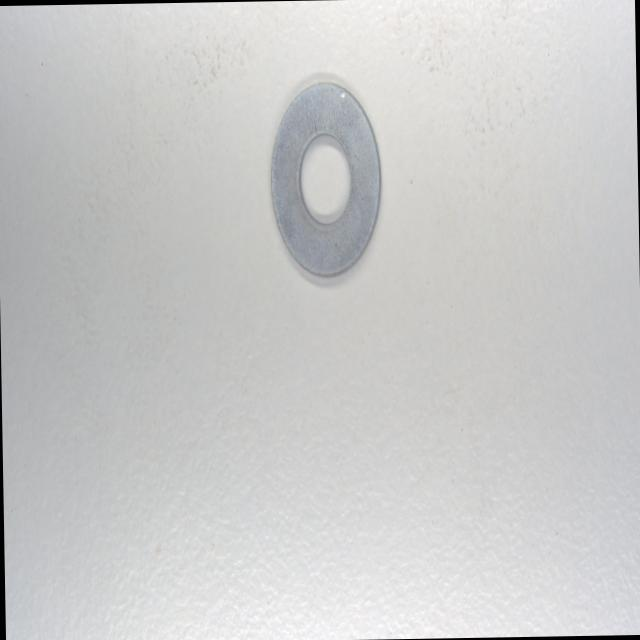washer: (266, 80, 383, 282)
